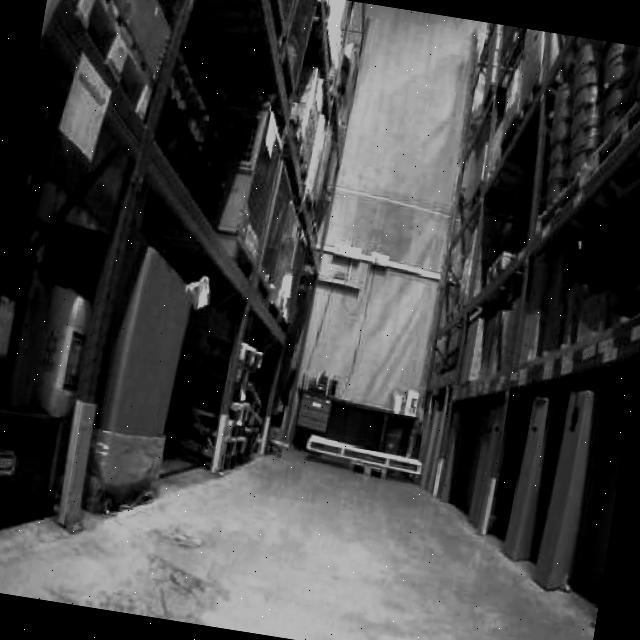ground: (0, 395, 617, 640)
pallet: (380, 21, 640, 640), (532, 384, 605, 594), (502, 392, 559, 564), (207, 337, 276, 479), (303, 432, 427, 486)
